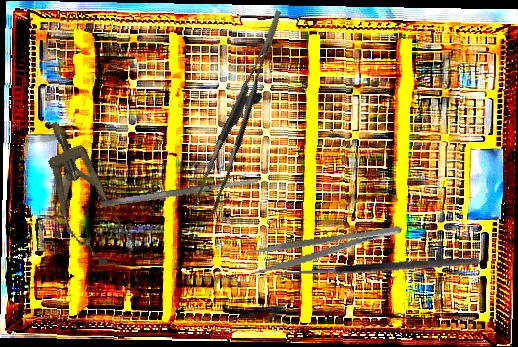Dressing Forceps: (244, 221, 406, 277)
Hook Surgical: (275, 255, 481, 290)
Spatula Surgical: (100, 176, 259, 209)
Speculum: (26, 111, 141, 273)
Tissue Forceps: (174, 9, 315, 216)
